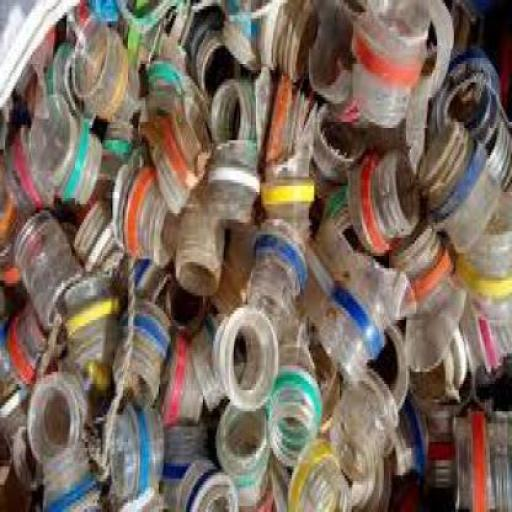plastic: (1, 2, 511, 511), (318, 222, 420, 387), (434, 54, 511, 236), (391, 228, 467, 378), (424, 119, 504, 259), (266, 80, 330, 250), (350, 3, 432, 134), (146, 85, 216, 226), (328, 369, 402, 484), (32, 101, 106, 210), (14, 217, 84, 332), (3, 4, 77, 110), (348, 158, 424, 259), (114, 156, 176, 271), (73, 25, 142, 128), (214, 311, 280, 414), (364, 85, 428, 180), (454, 405, 511, 511), (251, 223, 309, 326), (29, 372, 90, 469), (118, 302, 172, 411), (188, 3, 246, 100), (224, 399, 274, 511), (272, 366, 324, 472), (64, 277, 122, 372), (112, 405, 166, 506), (309, 3, 357, 116), (274, 442, 352, 511), (44, 40, 98, 131), (150, 52, 208, 134), (176, 213, 229, 301), (211, 147, 263, 235), (260, 3, 314, 86), (318, 106, 370, 192), (463, 289, 511, 382), (213, 76, 265, 159), (165, 426, 215, 511), (7, 130, 56, 216), (416, 3, 454, 113), (2, 158, 32, 292), (212, 225, 256, 314), (302, 246, 347, 332), (274, 278, 322, 356), (162, 341, 204, 429), (314, 158, 356, 241), (45, 454, 106, 511), (77, 208, 126, 278), (428, 405, 464, 493), (223, 3, 263, 82), (10, 310, 52, 384), (393, 396, 428, 482), (130, 28, 189, 79), (166, 268, 208, 338), (341, 463, 394, 511), (454, 3, 494, 61), (104, 128, 143, 186), (132, 3, 190, 40), (14, 427, 44, 494), (1, 382, 31, 448), (1, 320, 26, 394), (92, 3, 130, 34), (16, 86, 32, 131), (2, 446, 12, 500)
